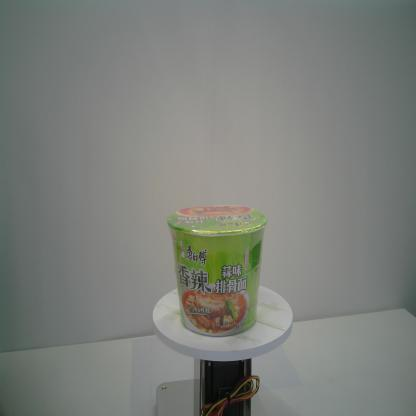Instant Noodles: (165, 204, 269, 338)
